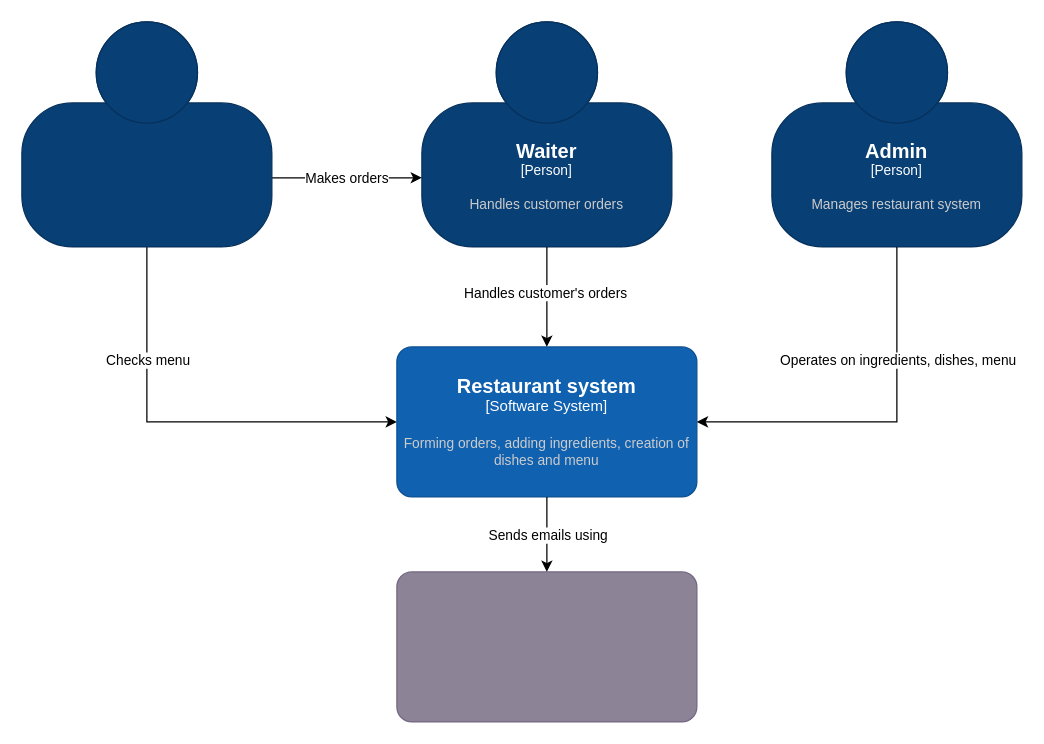
Some shapes in this 1044 by 744 pixel diagram are drawn without their labels. The centre of each missing label's shape, as x and y in pixels:
Customer [Person] Makes orders to the Waiter: pixel 146 134
Email system [Software System] Accepts, forwards, delivers, and stores messages: pixel 546 646
